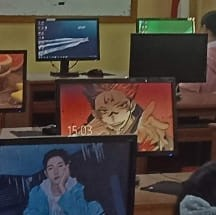monitor: (55, 77, 179, 168), (0, 134, 138, 213), (129, 33, 208, 85), (35, 17, 100, 63), (0, 50, 28, 113), (136, 18, 195, 33)
